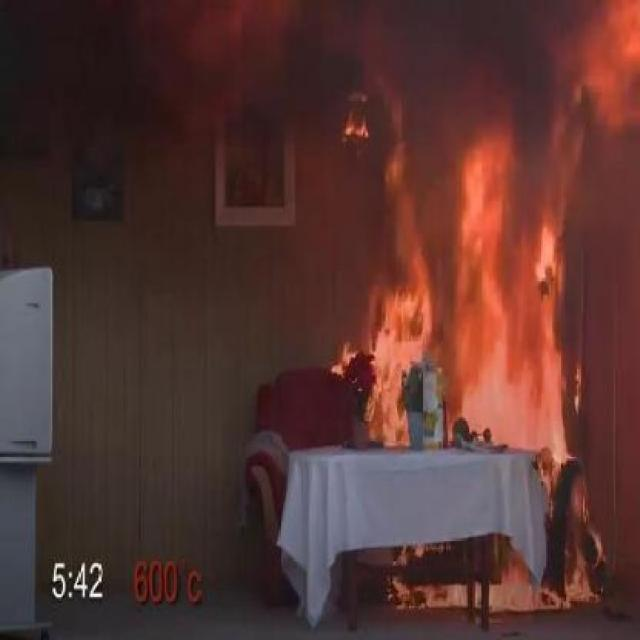fire: (356, 228, 601, 628)
smoke: (68, 8, 342, 144), (431, 23, 624, 191)
